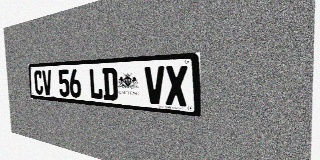5: (58, 69, 70, 97)
6: (69, 69, 81, 98)
C: (34, 70, 43, 95)
D: (102, 68, 118, 101)
L: (89, 68, 103, 100)
V: (144, 66, 165, 105), (42, 70, 52, 96)
X: (165, 65, 188, 107)
